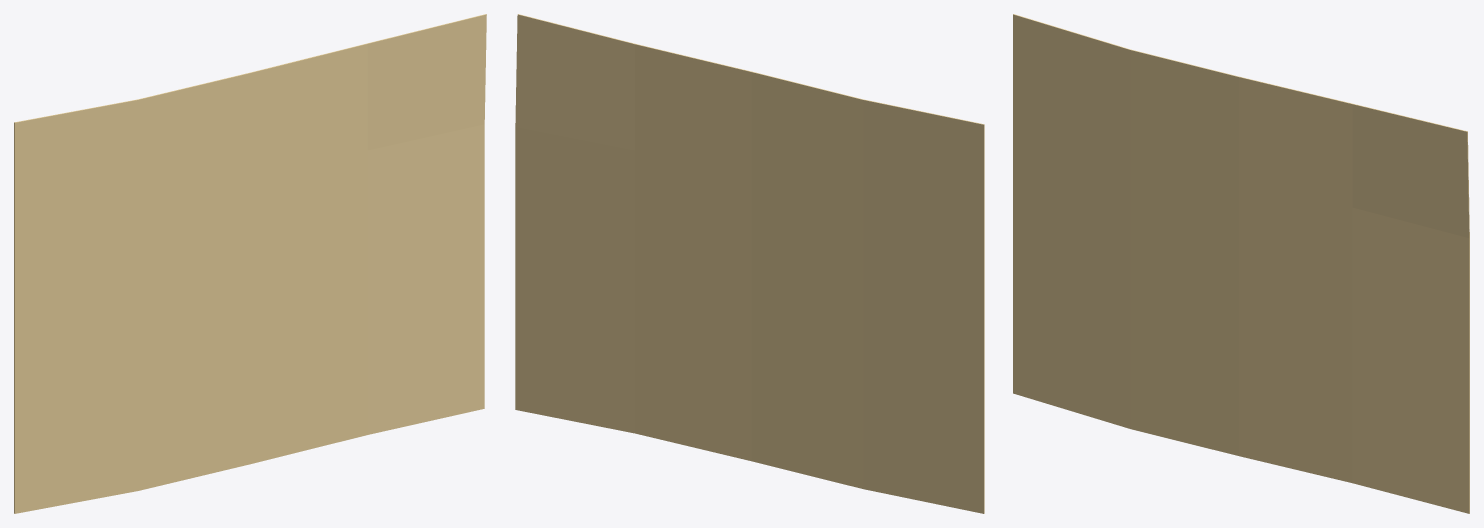
Rendered from BlankNote.glb.
The picture shows the model from 3 angles, left to right: view 1: azimuth 30°, elevation 25°; view 2: azimuth 150°, elevation 25°; view 3: azimuth 330°, elevation 25°; orthographic projection. The views are drawn at different scales.
Parts seen in each view (by area): view 1: BlankNote.Sheet; view 2: BlankNote.Sheet; view 3: BlankNote.Sheet.
Boxes of the visible parts, <box> form: BlankNote.Sheet: <box>14,14,486,513</box>; BlankNote.Sheet: <box>515,14,984,513</box>; BlankNote.Sheet: <box>1013,14,1469,513</box>.
Bounding box in the file's own units: 0.504 × 0.4105 × 0.00552.
